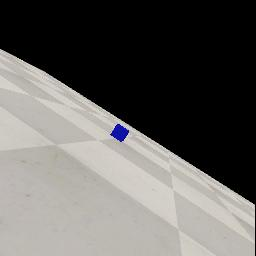box: (110, 124, 129, 142)
